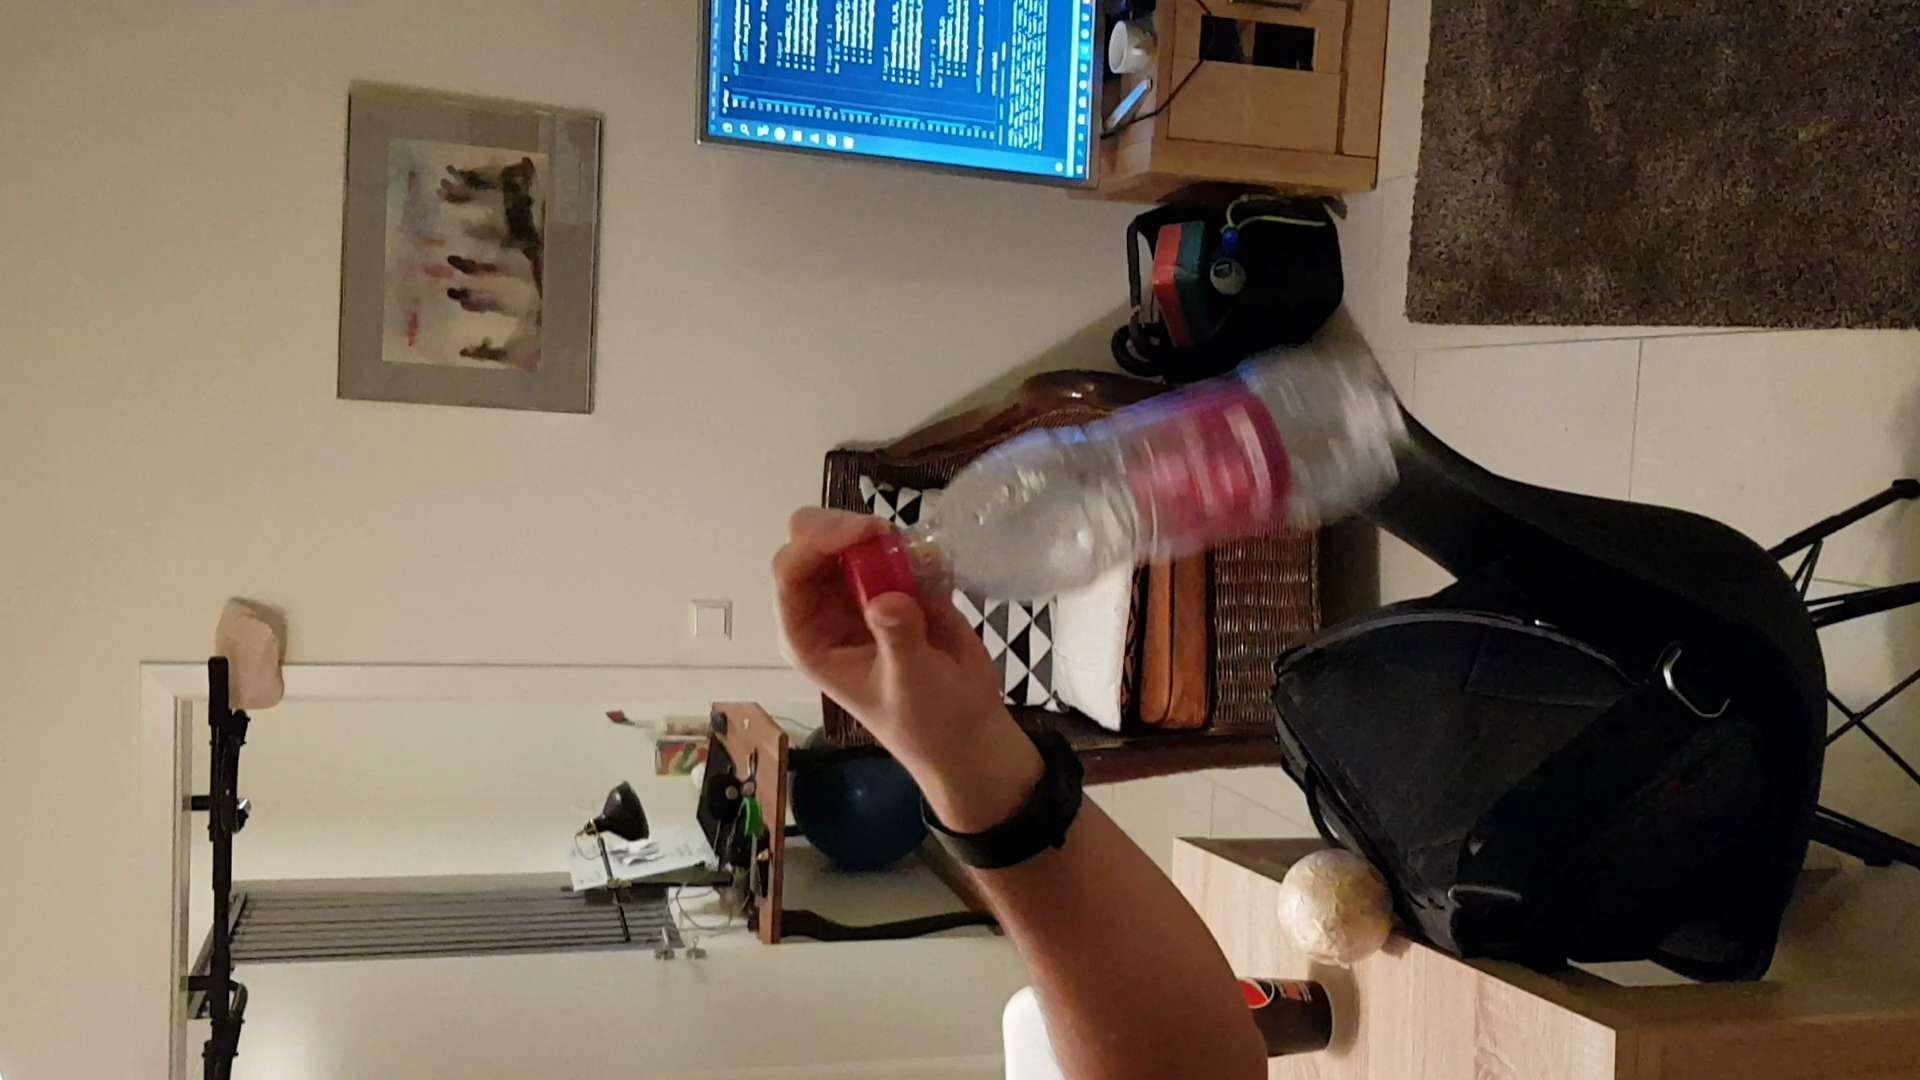Bottle: (843, 342, 1404, 611)
